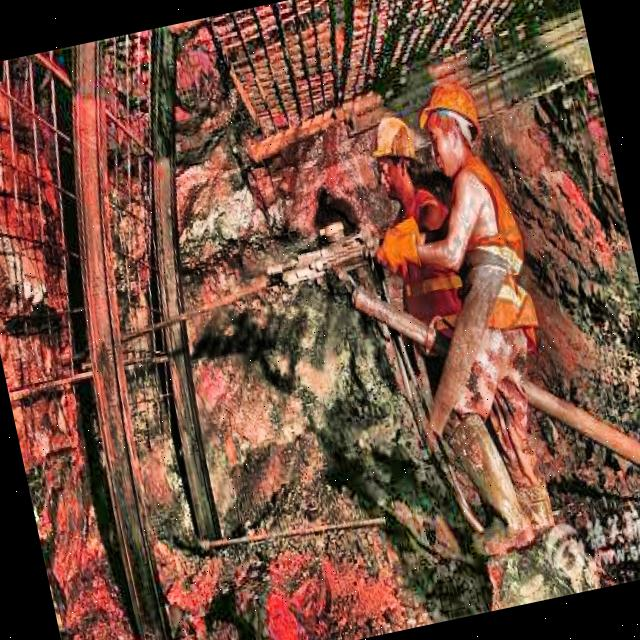helmet: (406, 66, 500, 184), (359, 105, 432, 213)
